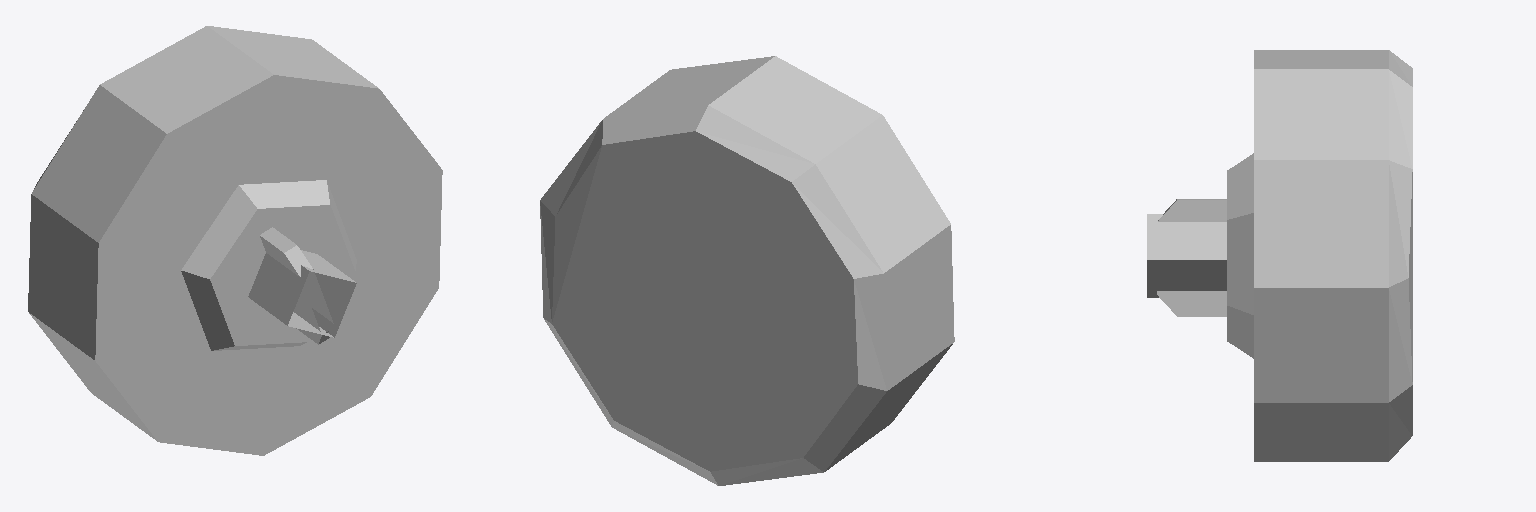
Rendered from wheel52.obj.
3 renders of one model, left to right at view 1: azimuth 30°, elevation 25°; view 2: azimuth 150°, elevation 25°; view 3: azimuth 270°, elevation 25°, orthographic.
Visible parts, largest first — view 1: wheel_low_textures; view 2: wheel_low_textures; view 3: wheel_low_textures.
Boxes of the visible parts, x1,y1,x2,y2 form: wheel_low_textures: [28, 26, 442, 455]; wheel_low_textures: [540, 56, 954, 485]; wheel_low_textures: [1147, 50, 1412, 461].
Bounding box in the file's own units: 1.5 × 1.56 × 0.9907.